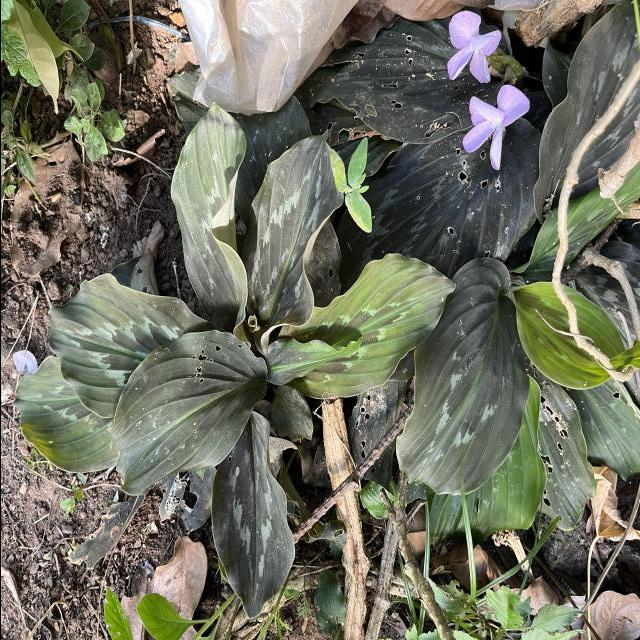Kaempferia galanga linn: (393, 255, 531, 498), (268, 252, 458, 402), (104, 328, 270, 497), (44, 271, 218, 419), (238, 128, 346, 358), (168, 99, 251, 362), (209, 408, 296, 622), (9, 354, 118, 476), (262, 335, 364, 387)
